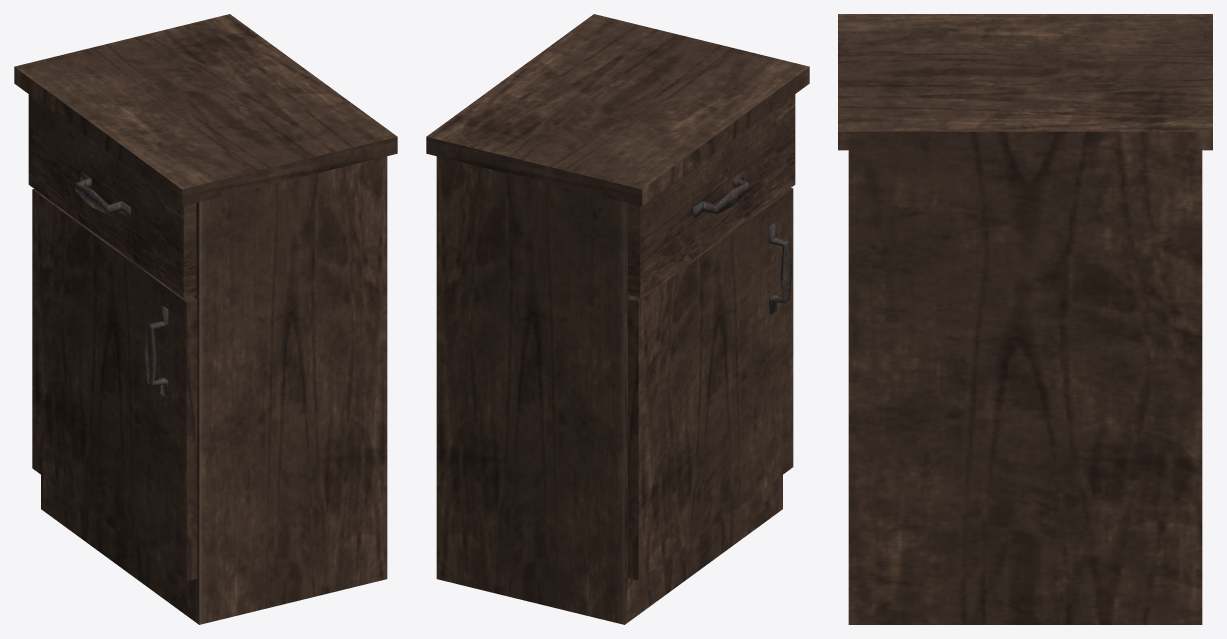
File: Cabinet01.fbx
3 renders of one model, left to right at view 1: azimuth 30°, elevation 25°; view 2: azimuth 150°, elevation 25°; view 3: azimuth 270°, elevation 25°, orthographic. The views are drawn at different scales.
Visible parts, largest first — view 1: Cube.025, Cube.029, Cube.026; view 2: Cube.025, Cube.029, Cube.026; view 3: Cube.025.
Boxes of the visible parts, bbox=[...] form: Cube.025: bbox=[14, 14, 397, 624]; Cube.029: bbox=[32, 189, 197, 581]; Cube.026: bbox=[28, 94, 196, 297]; Cube.025: bbox=[426, 14, 809, 624]; Cube.029: bbox=[628, 188, 793, 580]; Cube.026: bbox=[627, 94, 795, 297]; Cube.025: bbox=[838, 14, 1212, 624].
Size of the model in its own units: 1.37 by 1.79 by 2.61.
